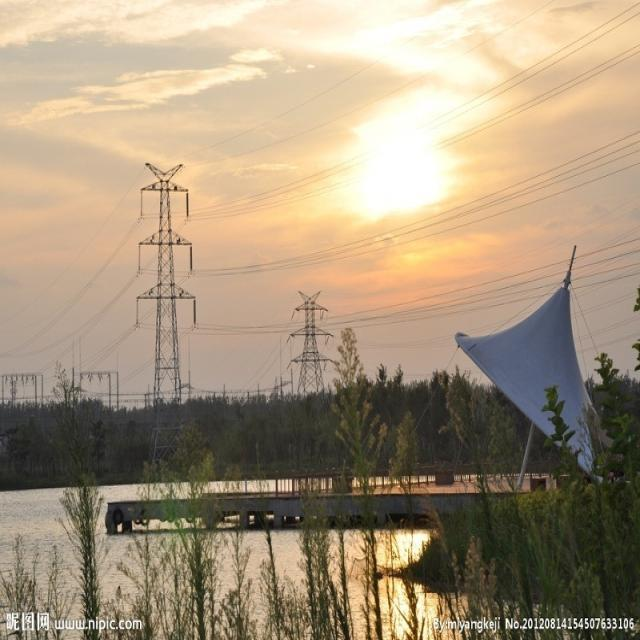non-critical vegetation: (119, 146, 212, 417), (284, 287, 328, 399)
